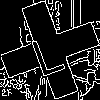L: (25, 25, 67, 78)
